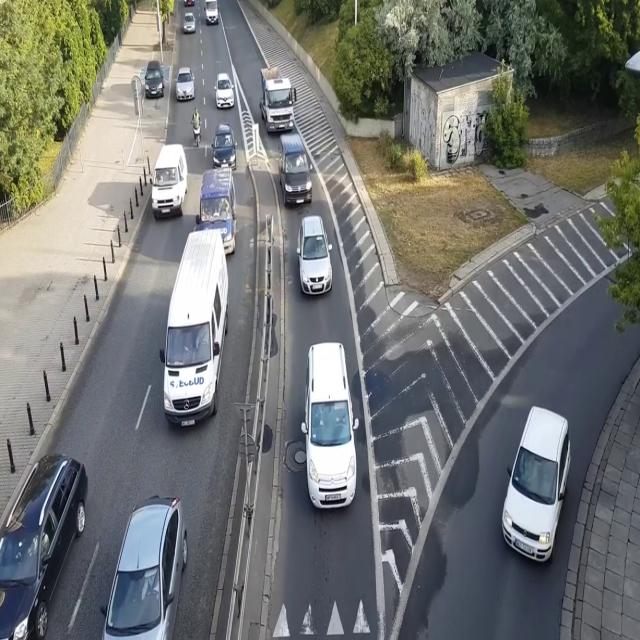car: (0, 452, 90, 640), (98, 493, 190, 640), (500, 403, 574, 573), (300, 340, 360, 514), (296, 214, 333, 298), (210, 124, 240, 173), (143, 59, 166, 99), (173, 65, 196, 102), (214, 72, 235, 111), (182, 8, 196, 34), (181, 0, 195, 6)
motorcycle: (190, 108, 203, 148)
truck: (257, 64, 297, 136)
van: (158, 226, 229, 432), (196, 169, 238, 262), (148, 144, 189, 218), (278, 134, 313, 208), (202, 0, 218, 28)
